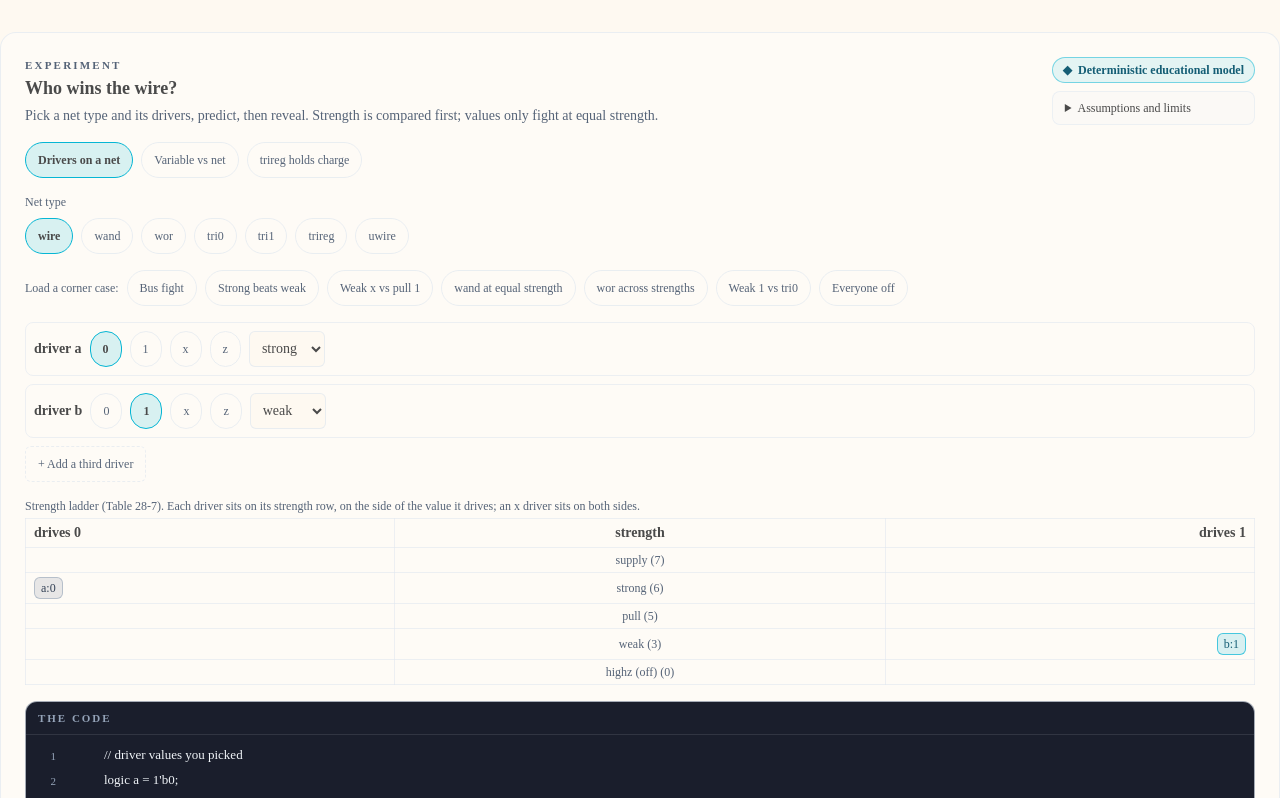
Test case: NetResolutionSimulator › variable vs net: two assigns on logic y are a compile error, on wire y they resolve
Click the radio button labelled "Variable vs net": point(190, 160) [141, 142, 239, 178]
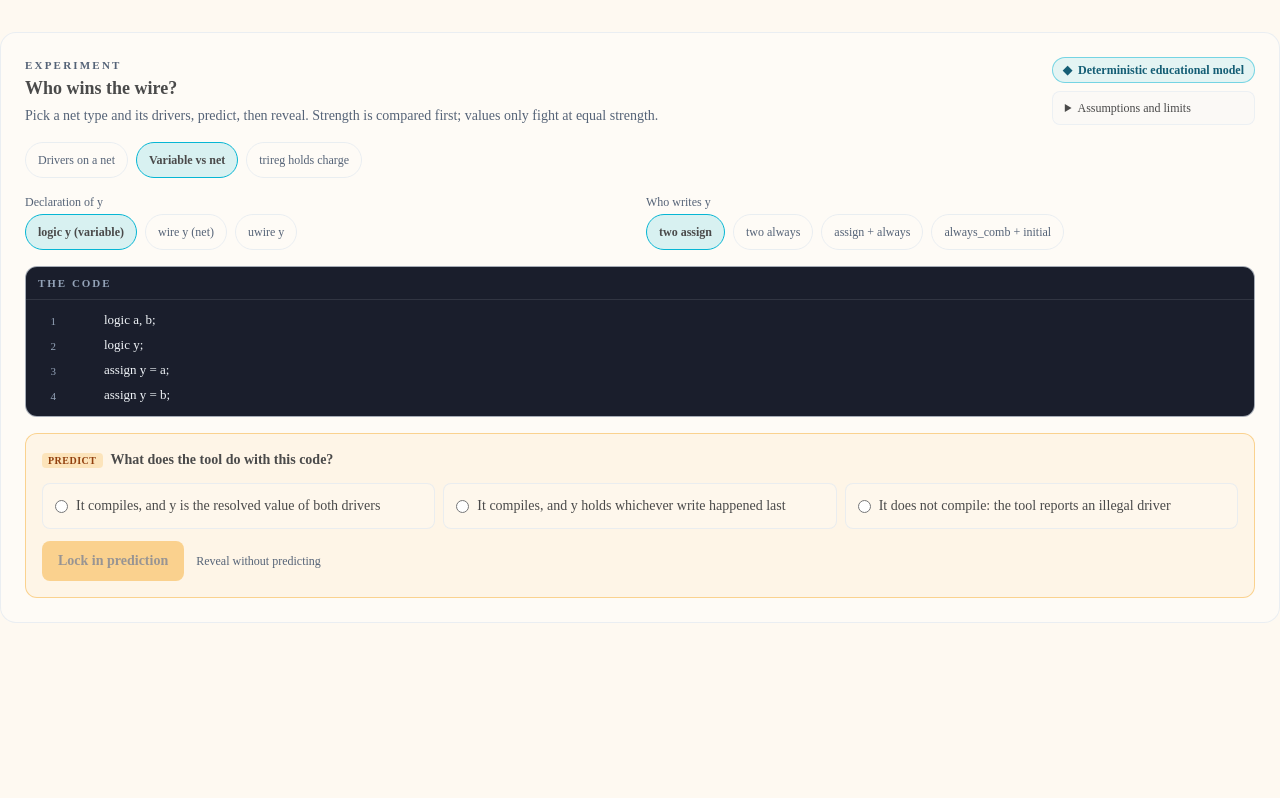
Expected: the text "multiple continuous drivers on a variable" is not shown
Click the radio button labelled "It compiles, and y is the resolved value of both drivers": point(62, 506) [55, 500, 68, 513]
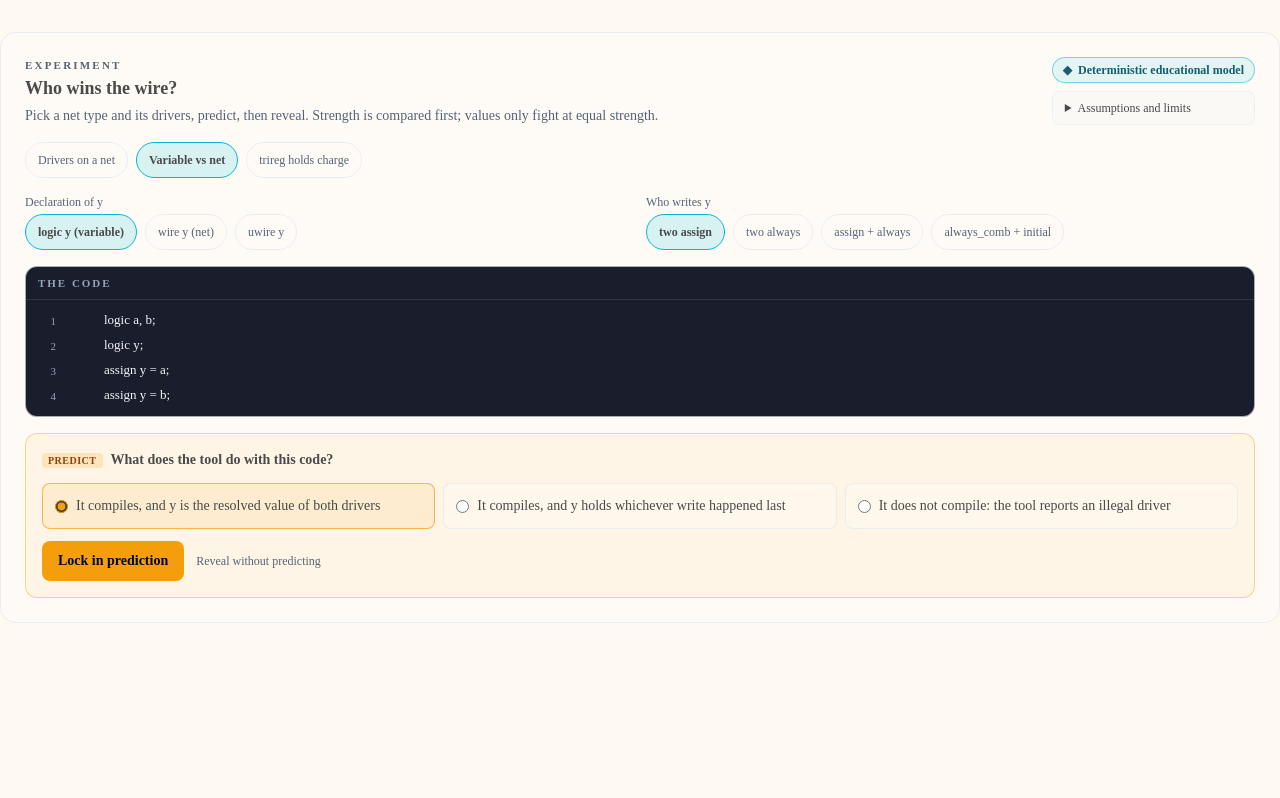
Click the button "Lock in prediction": point(113, 561) [42, 541, 184, 581]
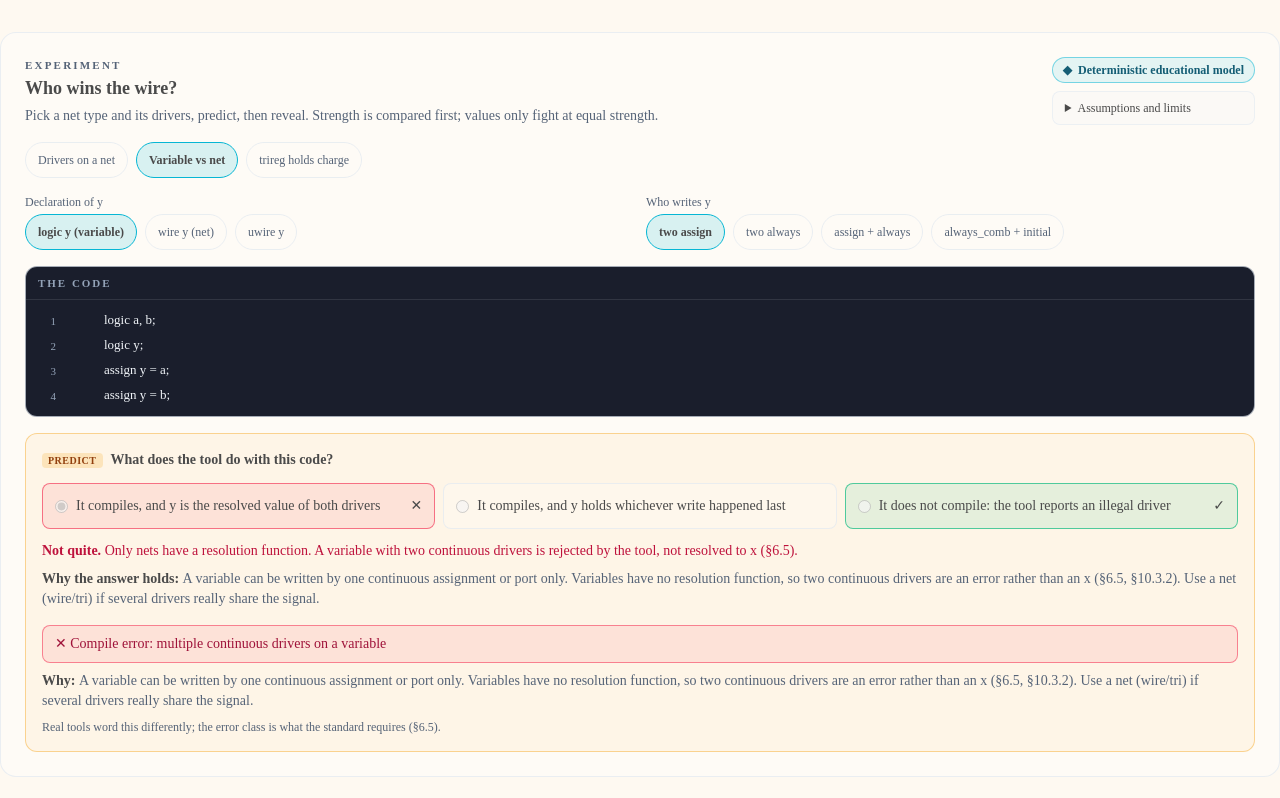
Result: the text "Not quite." is shown at [42, 543, 105, 558]
Result: the text "✕ Compile error: multiple continuous drivers on a variable" is shown at [42, 625, 1238, 663]
Click the radio button with aria-label "wire y, a net": point(186, 232) [145, 214, 227, 250]
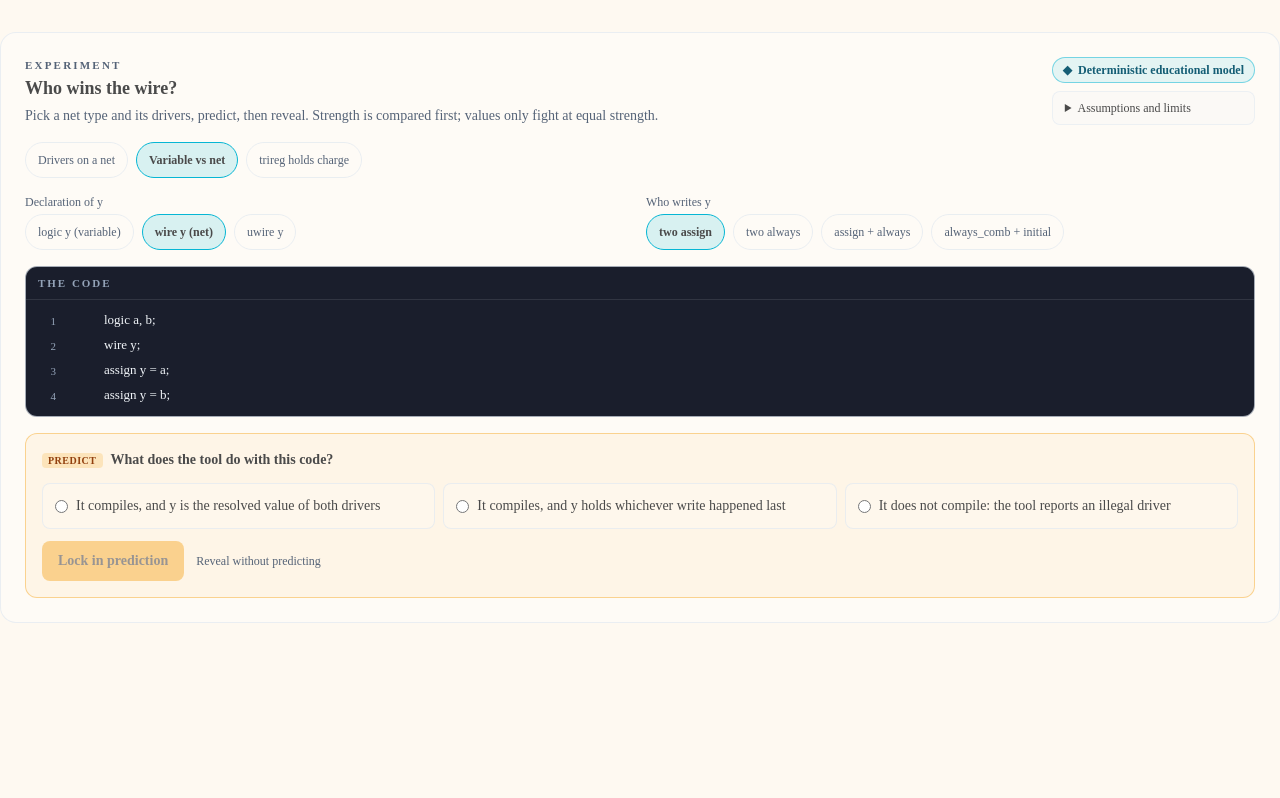
Click the radio button labelled "It compiles, and y is the resolved value of both drivers": point(62, 506) [55, 500, 68, 513]
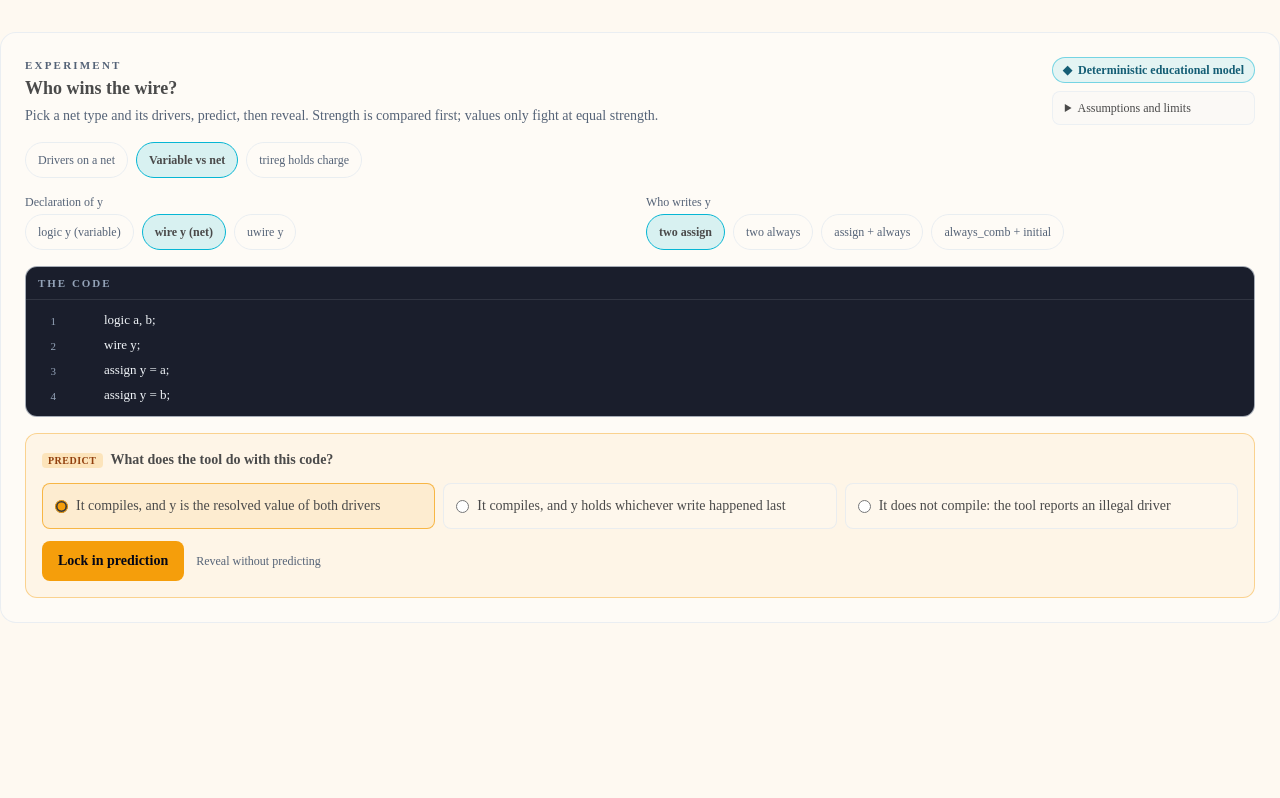
Click the button "Lock in prediction": point(113, 561) [42, 541, 184, 581]
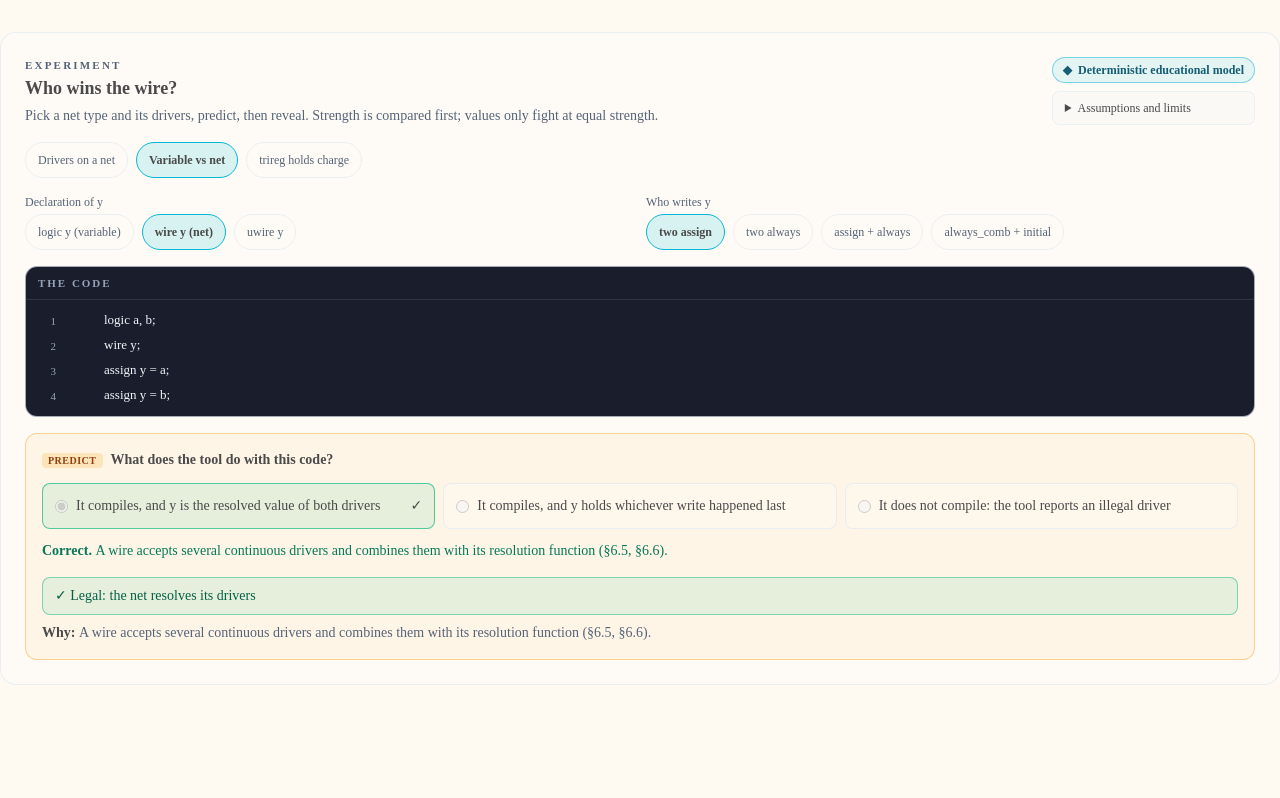
Result: the text "Correct." is shown at [42, 543, 95, 558]
Result: the text "✓ Legal: the net resolves its drivers" is shown at [42, 577, 1238, 615]
